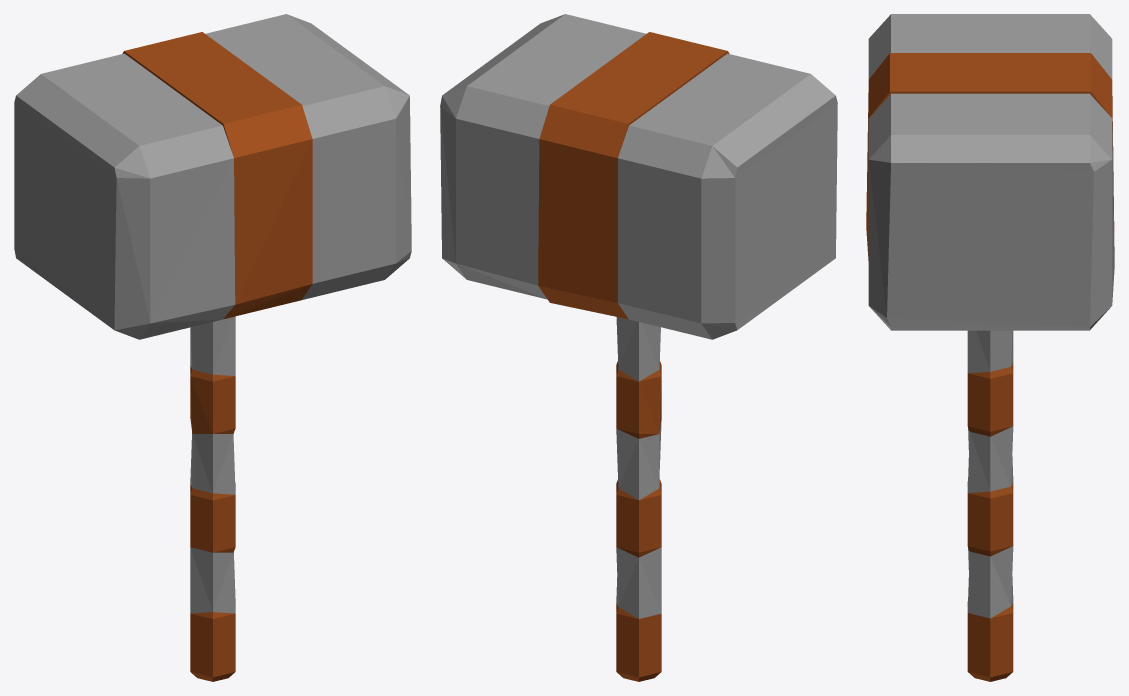
The model's file is hammer_6.FBX.
3 views of the same model, side by side, from view 1: azimuth 30°, elevation 25°; view 2: azimuth 150°, elevation 25°; view 3: azimuth 270°, elevation 25° (orthographic).
Parts seen in each view (by area): view 1: hammer_6; view 2: hammer_6; view 3: hammer_6.
Part boxes in pixels (left/top/right/bottom): hammer_6: left=14, top=14, right=411, bottom=681; hammer_6: left=440, top=14, right=837, bottom=681; hammer_6: left=866, top=14, right=1114, bottom=681.
Size of the model in its own units: 65.62 by 127 by 47.37.
